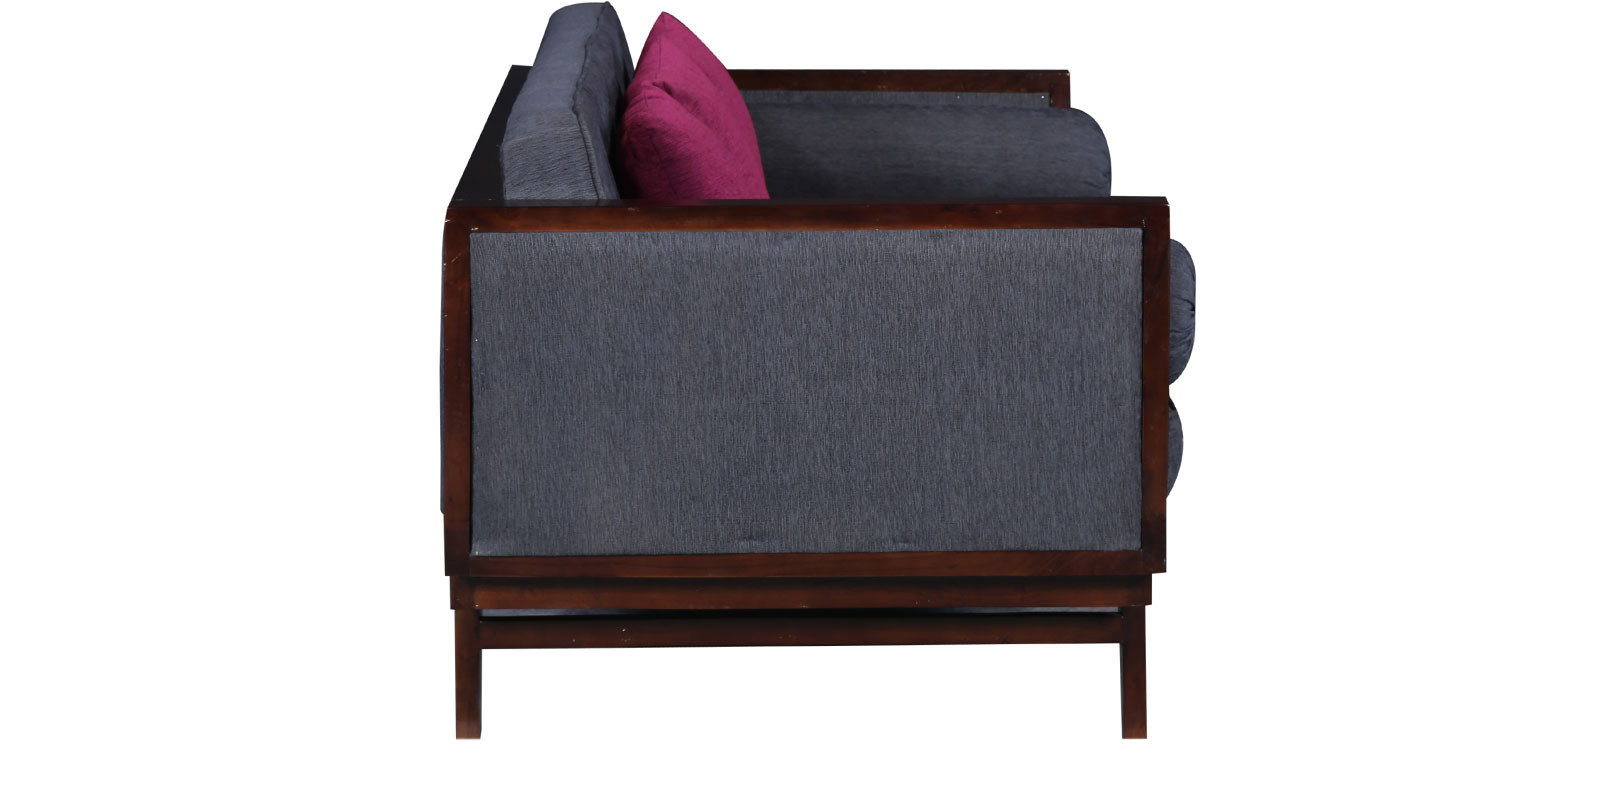Dillon Three Seater Sofa in Passion Mahogany Finish by Woodsworth: (434, 3, 1205, 772)
